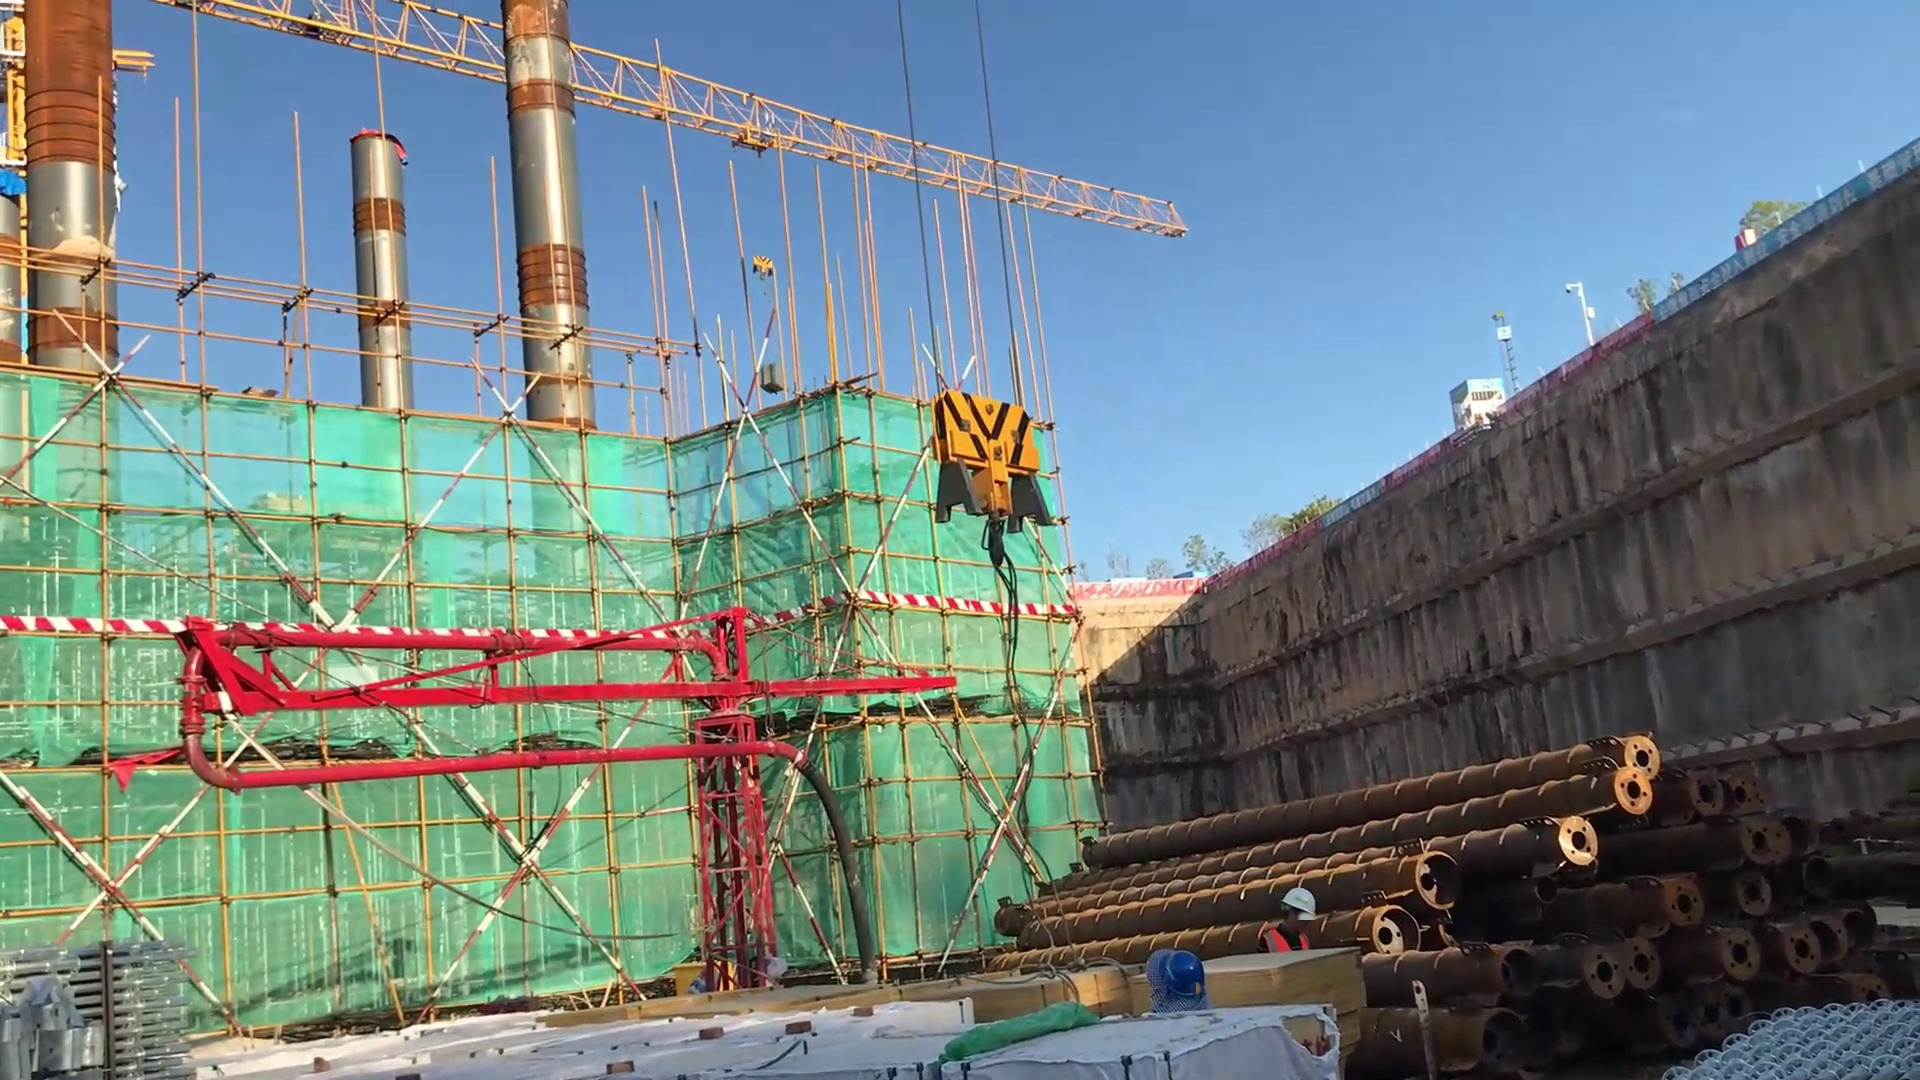board: (937, 961, 1152, 1032), (1186, 942, 1365, 1025)
ebox: (670, 957, 754, 1002)
helmet: (1154, 943, 1215, 1012), (1273, 881, 1319, 922)
hook: (940, 373, 1058, 539), (743, 251, 787, 289)
person: (1247, 872, 1336, 965)
scaffold: (33, 938, 229, 1080)
slogan: (1654, 135, 1920, 337), (1312, 476, 1402, 544)
vest: (1258, 924, 1314, 963)
